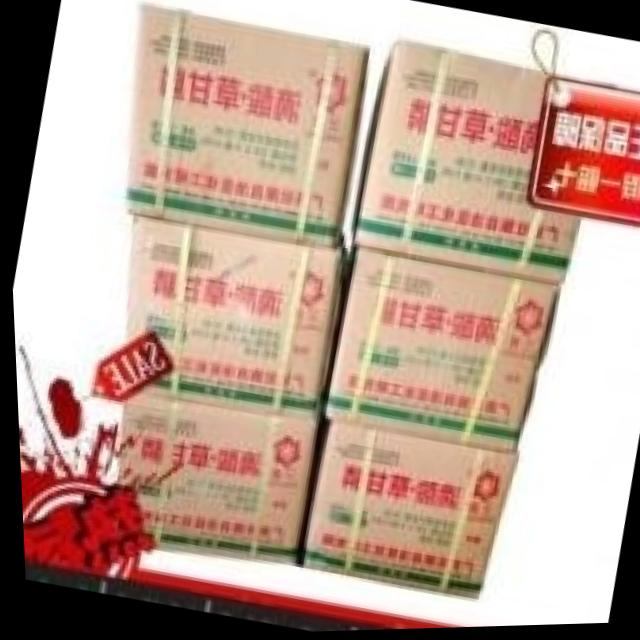box: (122, 3, 366, 245), (348, 43, 580, 288), (317, 248, 556, 455), (116, 214, 348, 414), (294, 415, 513, 601), (113, 390, 316, 564)
